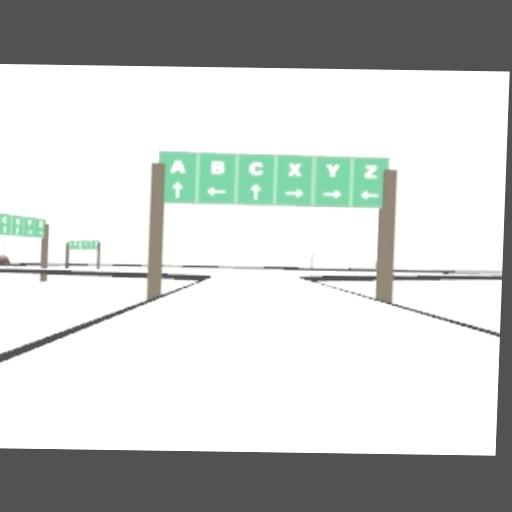A: (169, 159, 185, 172)
B: (209, 160, 225, 173)
C: (248, 160, 264, 175)
Left: (205, 187, 227, 195), (360, 190, 378, 199)
Right: (283, 190, 303, 199), (322, 191, 342, 199)
Straight: (171, 181, 183, 197), (249, 184, 261, 200)
X: (287, 163, 301, 176)
Y: (324, 163, 340, 177)
Z: (364, 164, 378, 177), (35, 218, 44, 238), (20, 216, 30, 225), (12, 224, 21, 234), (0, 214, 7, 224), (26, 218, 33, 226), (14, 217, 19, 225), (1, 226, 6, 234), (76, 242, 84, 247)
